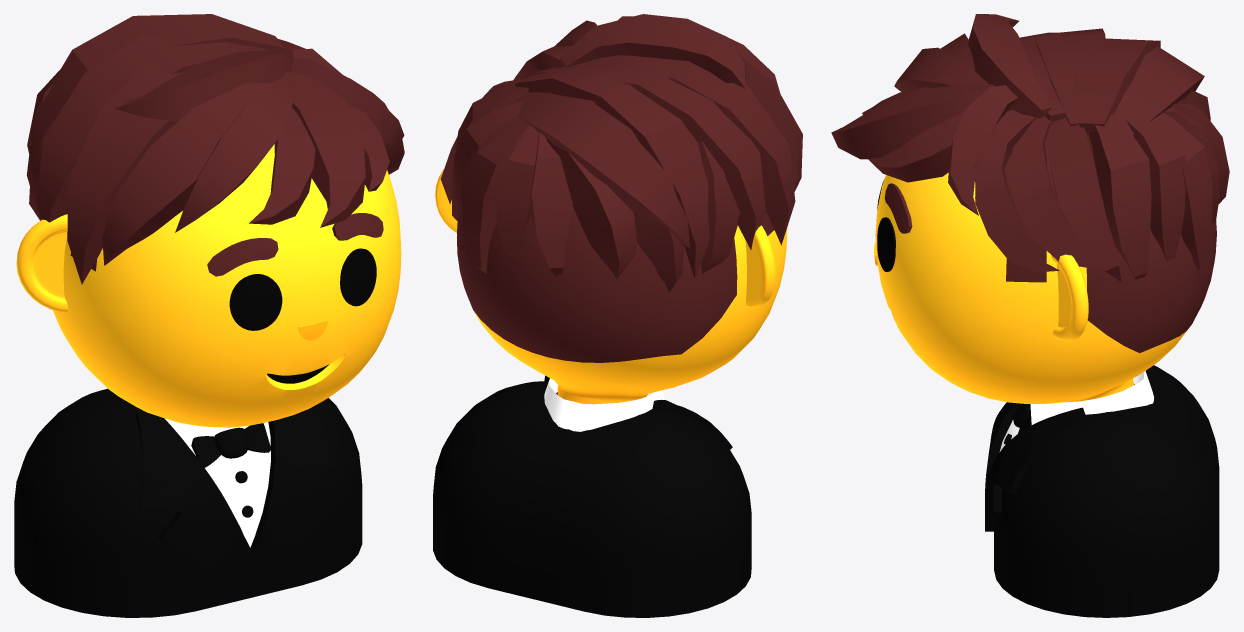
The model's file is person_in_tuxedo.gltf.
The picture shows the model from 3 angles, left to right: view 1: azimuth 30°, elevation 25°; view 2: azimuth 150°, elevation 25°; view 3: azimuth 270°, elevation 25°; orthographic projection. The views are drawn at different scales.
Visible parts, largest first — view 1: Cube.2116, Roundcube.171, Sphere.142, Circle.862, Circle.858, Cylinder.139, Circle.861, Circle.863, Cube.2124, Plane.086; view 2: Cube.2116, Sphere.142, Roundcube.171, Plane.086, Cylinder.139, Circle.862; view 3: Cube.2116, Roundcube.171, Sphere.142, Circle.862, Cylinder.139, Plane.086, Circle.858, Circle.861.
Part boxes in pixels (bbox=[...]): Cube.2116: bbox=[26, 14, 404, 284]; Roundcube.171: bbox=[53, 144, 401, 427]; Sphere.142: bbox=[14, 388, 362, 617]; Circle.862: bbox=[135, 408, 341, 581]; Circle.858: bbox=[229, 248, 376, 330]; Cylinder.139: bbox=[16, 214, 68, 312]; Circle.861: bbox=[207, 213, 383, 276]; Circle.863: bbox=[191, 423, 270, 467]; Cube.2124: bbox=[214, 427, 248, 458]; Plane.086: bbox=[165, 418, 268, 448]; Cube.2116: bbox=[440, 14, 802, 292]; Sphere.142: bbox=[433, 381, 751, 617]; Roundcube.171: bbox=[457, 206, 787, 404]; Plane.086: bbox=[544, 378, 664, 431]; Cylinder.139: bbox=[435, 169, 775, 307]; Circle.862: bbox=[544, 375, 732, 449]; Cube.2116: bbox=[831, 14, 1229, 282]; Roundcube.171: bbox=[875, 110, 1216, 403]; Sphere.142: bbox=[994, 365, 1219, 617]; Circle.862: bbox=[985, 402, 1085, 531]; Cylinder.139: bbox=[1051, 254, 1088, 341]; Plane.086: bbox=[1030, 371, 1153, 424]; Circle.858: bbox=[877, 179, 895, 271]; Circle.861: bbox=[884, 183, 912, 233].
Bounding box in the file's own units: 1.76 × 2.48 × 1.77.
2 materials, 2 textured.
